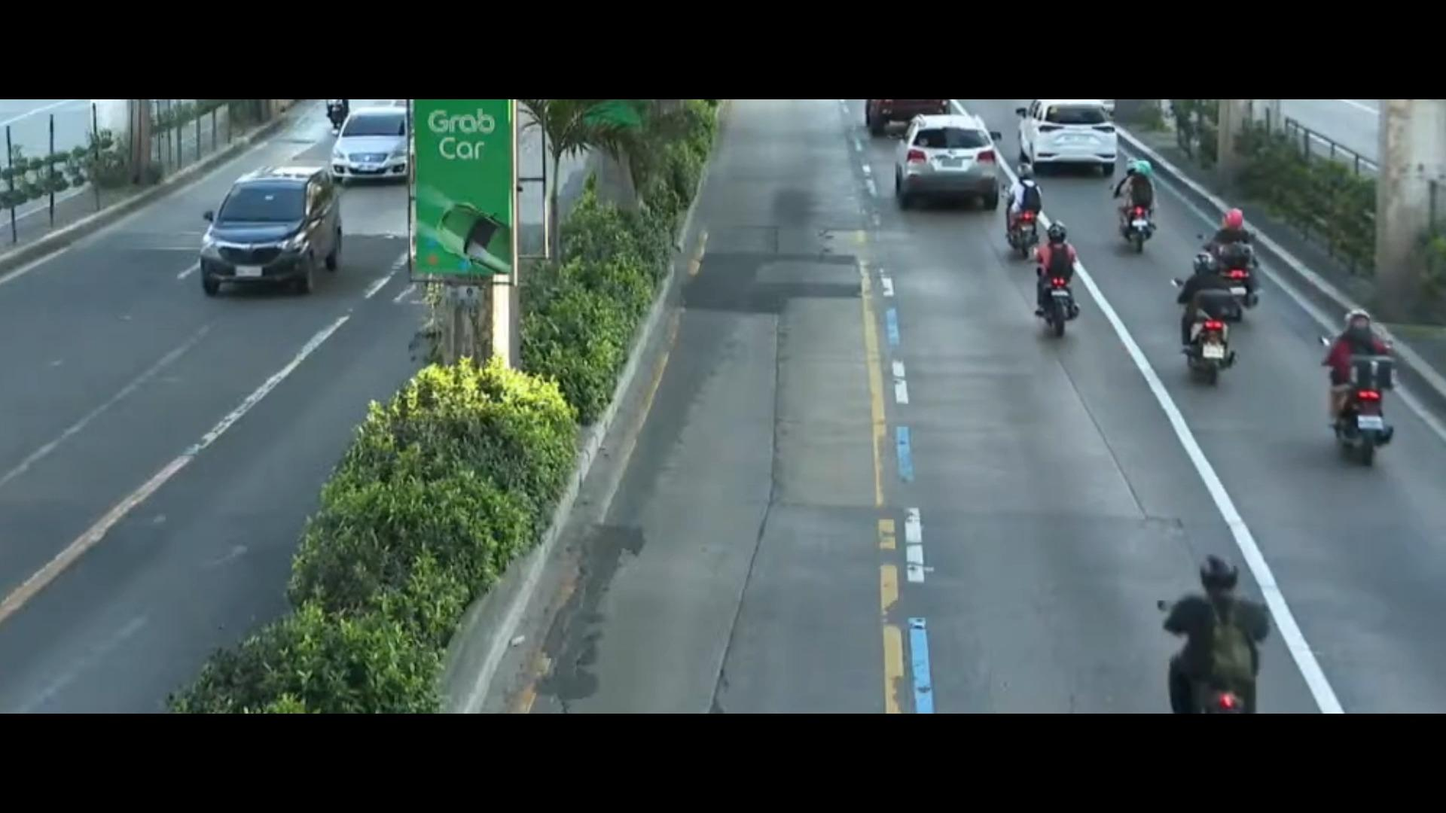Motorcycle: (1145, 550, 1285, 709), (1315, 304, 1416, 466), (1158, 261, 1241, 394), (1096, 146, 1180, 272), (1015, 209, 1095, 340), (1200, 201, 1278, 310), (983, 161, 1050, 270)
SUV: (179, 161, 359, 316), (889, 103, 1015, 210), (1005, 91, 1135, 175), (322, 96, 421, 190)
